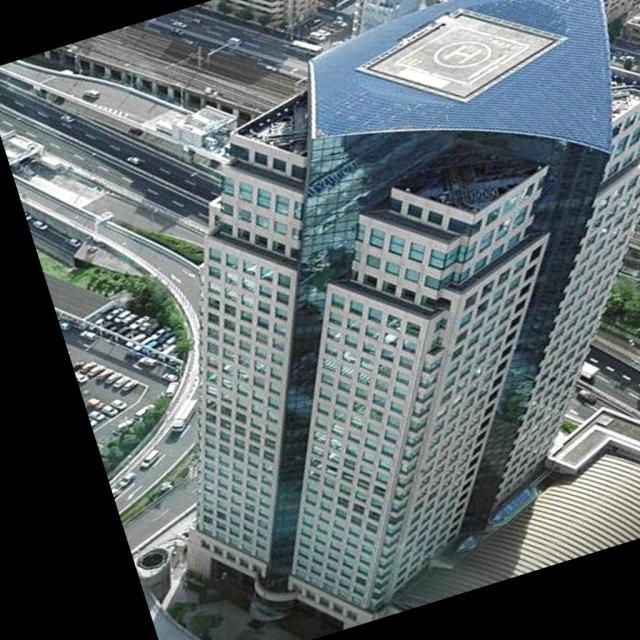helipad: (432, 37, 493, 70)
